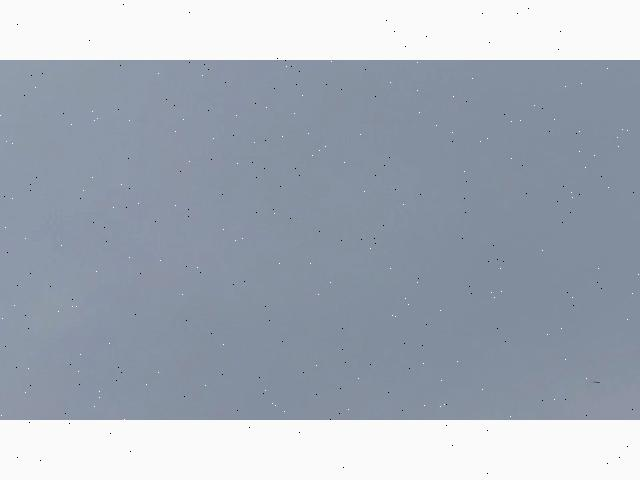Anti-Drone: (591, 380, 601, 386)
